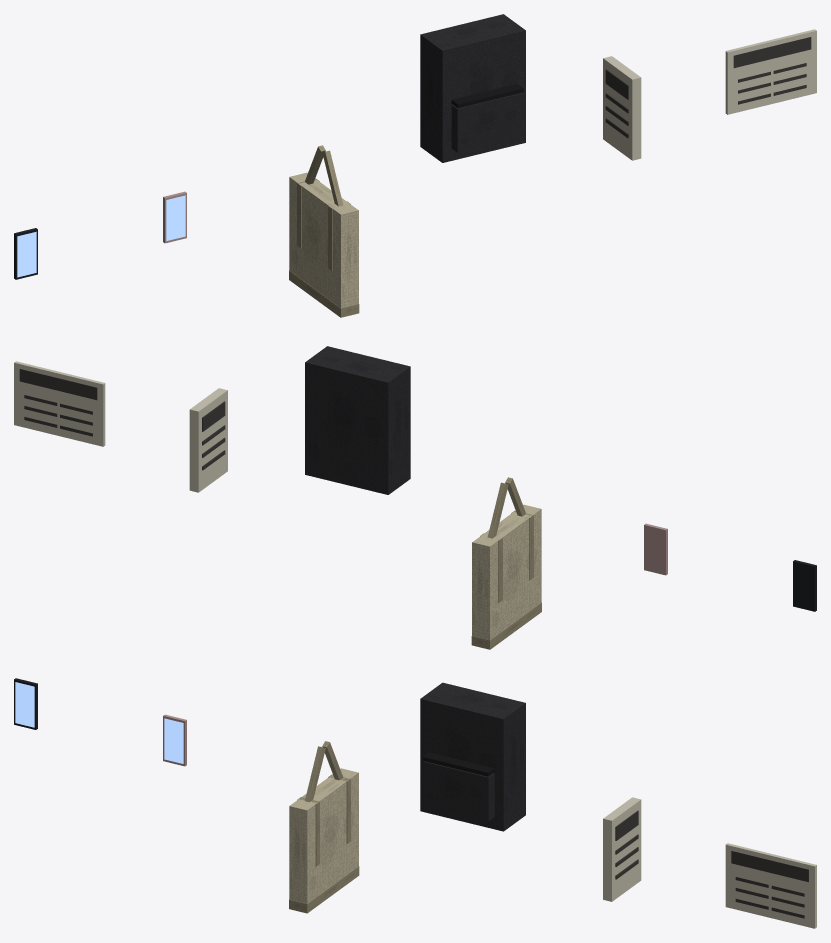
Rendered from props_all.glb.
The picture shows the model from 3 angles, top to bottom: view 1: azimuth 30°, elevation 25°; view 2: azimuth 150°, elevation 25°; view 3: azimuth 330°, elevation 25°; orthographic projection.
Parts seen in each view (by area): view 1: Prop_Backpack_Cloth_2b2b2e, Prop_Newspaper_Newspaper (×2), Prop_ToteBag_Cloth_ToteCanvas, Prop_Newspaper_Mat_3b3a37 (×2), Prop_ToteBag_Cloth_ToteStrap, Prop_PhoneTexter_PhoneScreen, Prop_Phone_PhoneScreen, Prop_Backpack; view 2: Prop_Backpack_Cloth_2b2b2e, Prop_Newspaper_Newspaper (×2), Prop_ToteBag_Cloth_ToteCanvas, Prop_Newspaper_Mat_3b3a37 (×2), Prop_ToteBag_Cloth_ToteStrap, Prop_PhoneTexter_PhoneBodyRose, Prop_Phone_PhoneBody; view 3: Prop_Backpack_Cloth_2b2b2e, Prop_Newspaper_Newspaper (×2), Prop_ToteBag_Cloth_ToteCanvas, Prop_Newspaper_Mat_3b3a37 (×2), Prop_ToteBag_Cloth_ToteStrap, Prop_PhoneTexter_PhoneScreen, Prop_Phone_PhoneScreen, Prop_Backpack.
Part boxes in pixels (box(x1,y1,x2,y2)): Prop_Backpack_Cloth_2b2b2e: box(420, 14, 525, 162); Prop_Newspaper_Newspaper (×2): box(603, 29, 816, 160); Prop_ToteBag_Cloth_ToteCanvas: box(289, 172, 358, 308); Prop_Newspaper_Mat_3b3a37 (×2): box(605, 37, 811, 138); Prop_ToteBag_Cloth_ToteStrap: box(289, 145, 359, 317); Prop_PhoneTexter_PhoneScreen: box(166, 195, 185, 240); Prop_Phone_PhoneScreen: box(17, 231, 36, 277); Prop_Backpack: box(451, 84, 523, 108); Prop_Backpack_Cloth_2b2b2e: box(305, 346, 410, 494); Prop_Newspaper_Newspaper (×2): box(14, 361, 227, 492); Prop_ToteBag_Cloth_ToteCanvas: box(472, 504, 541, 640); Prop_Newspaper_Mat_3b3a37 (×2): box(19, 369, 225, 470); Prop_ToteBag_Cloth_ToteStrap: box(471, 477, 541, 649); Prop_PhoneTexter_PhoneBodyRose: box(644, 523, 667, 575); Prop_Phone_PhoneBody: box(793, 560, 816, 611); Prop_Backpack_Cloth_2b2b2e: box(420, 682, 525, 831); Prop_Newspaper_Newspaper (×2): box(603, 797, 816, 928); Prop_ToteBag_Cloth_ToteCanvas: box(289, 768, 358, 903); Prop_Newspaper_Mat_3b3a37 (×2): box(615, 810, 808, 918); Prop_ToteBag_Cloth_ToteStrap: box(289, 741, 359, 913); Prop_PhoneTexter_PhoneScreen: box(164, 718, 183, 763); Prop_Phone_PhoneScreen: box(15, 682, 34, 727); Prop_Backpack: box(422, 752, 494, 776).
Size of the model in its own units: 2.69 by 0.73 by 0.302.
12 materials, 3 textured.
